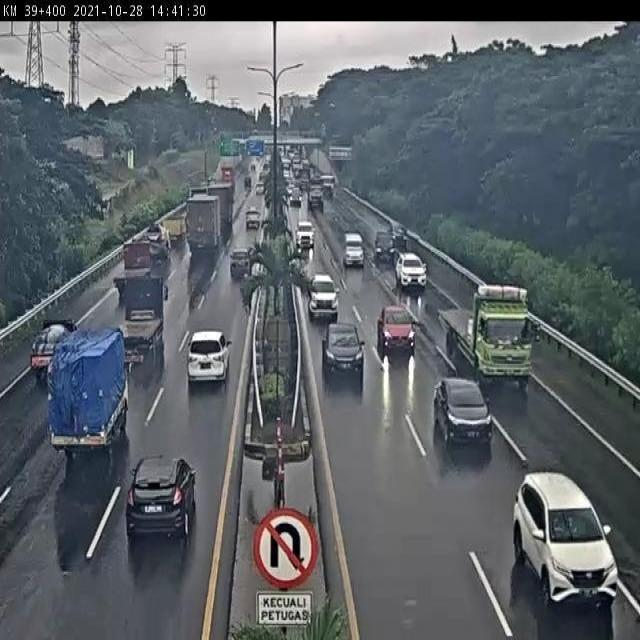Car: (511, 469, 617, 612), (126, 458, 199, 549), (431, 373, 494, 450), (320, 322, 365, 384), (184, 331, 234, 384), (377, 306, 415, 360), (307, 276, 340, 320), (395, 255, 427, 291), (230, 245, 254, 282), (376, 232, 397, 266), (296, 220, 316, 252), (245, 208, 264, 230), (288, 186, 302, 208)
Truck: (437, 282, 540, 391), (51, 327, 130, 465), (117, 274, 169, 378), (24, 316, 78, 376), (186, 194, 222, 259), (113, 243, 151, 296), (206, 182, 232, 242), (161, 213, 189, 243), (308, 183, 325, 210), (321, 173, 335, 200)
Van: (341, 231, 366, 272)
